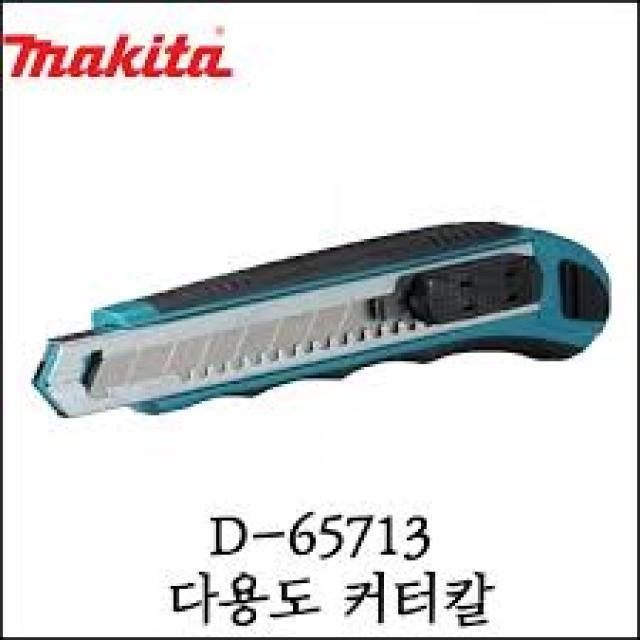cutter: (29, 211, 622, 427)
